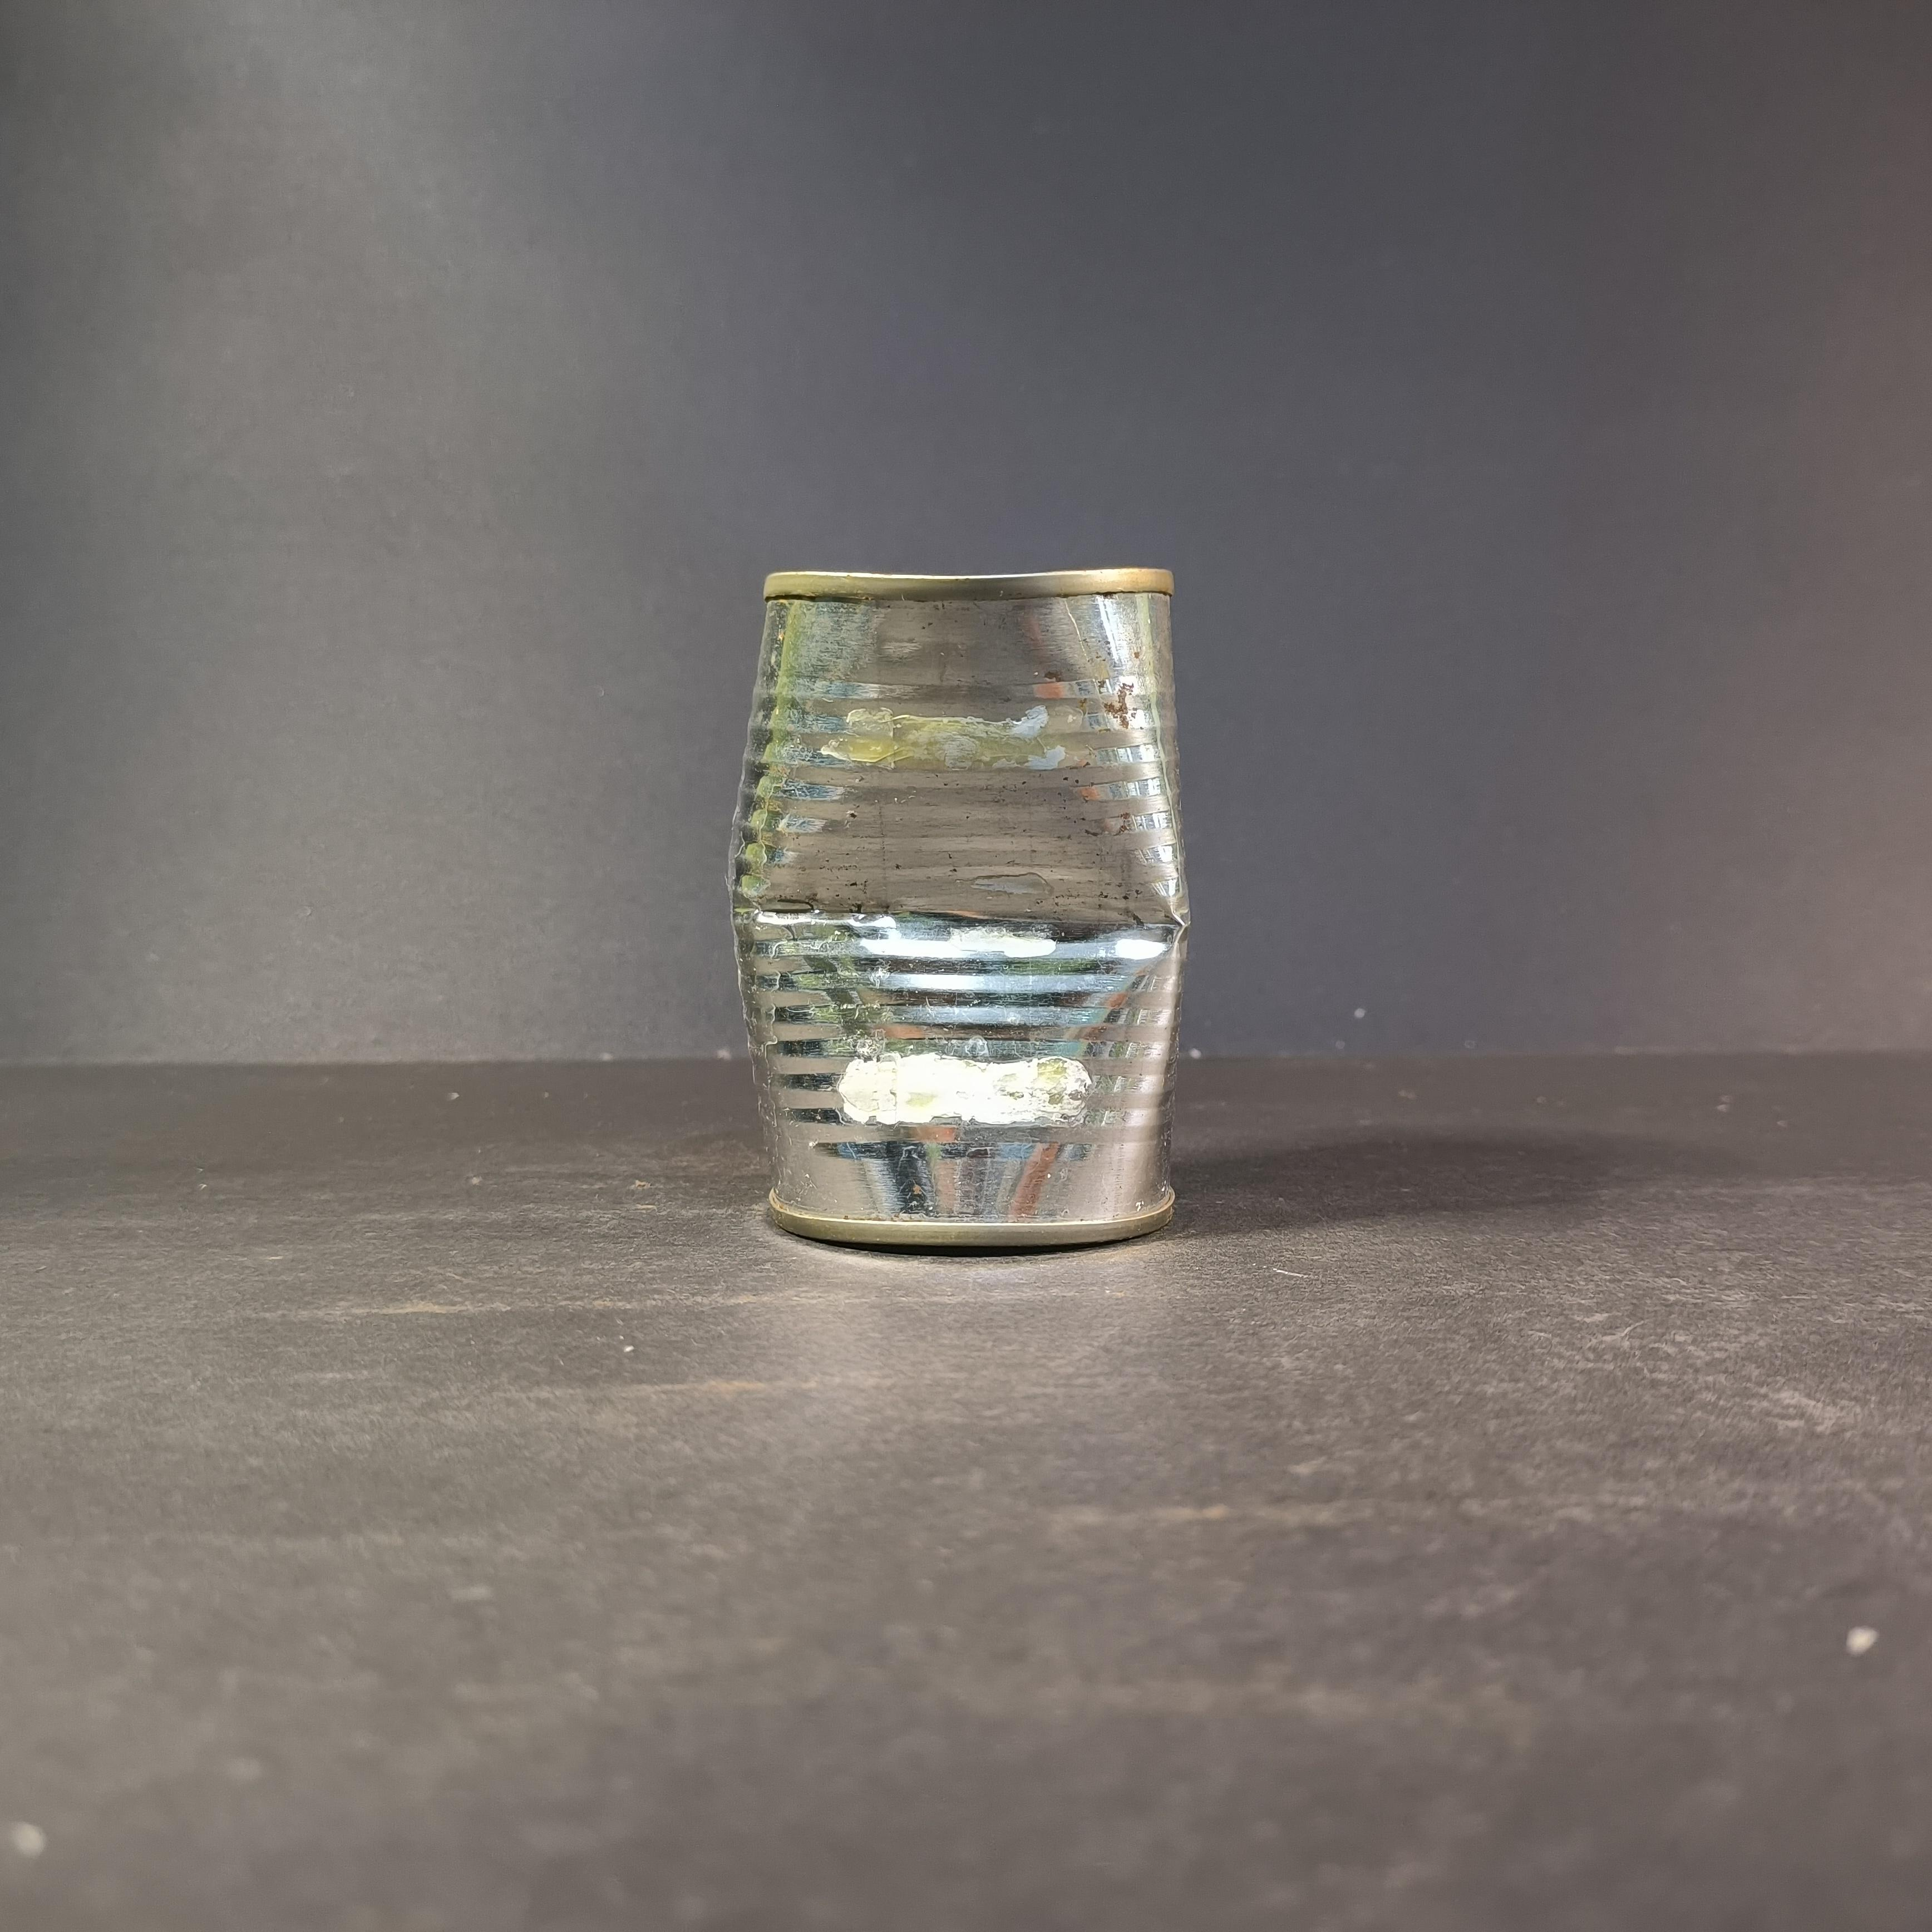Dented: (695, 529, 1230, 1288)
